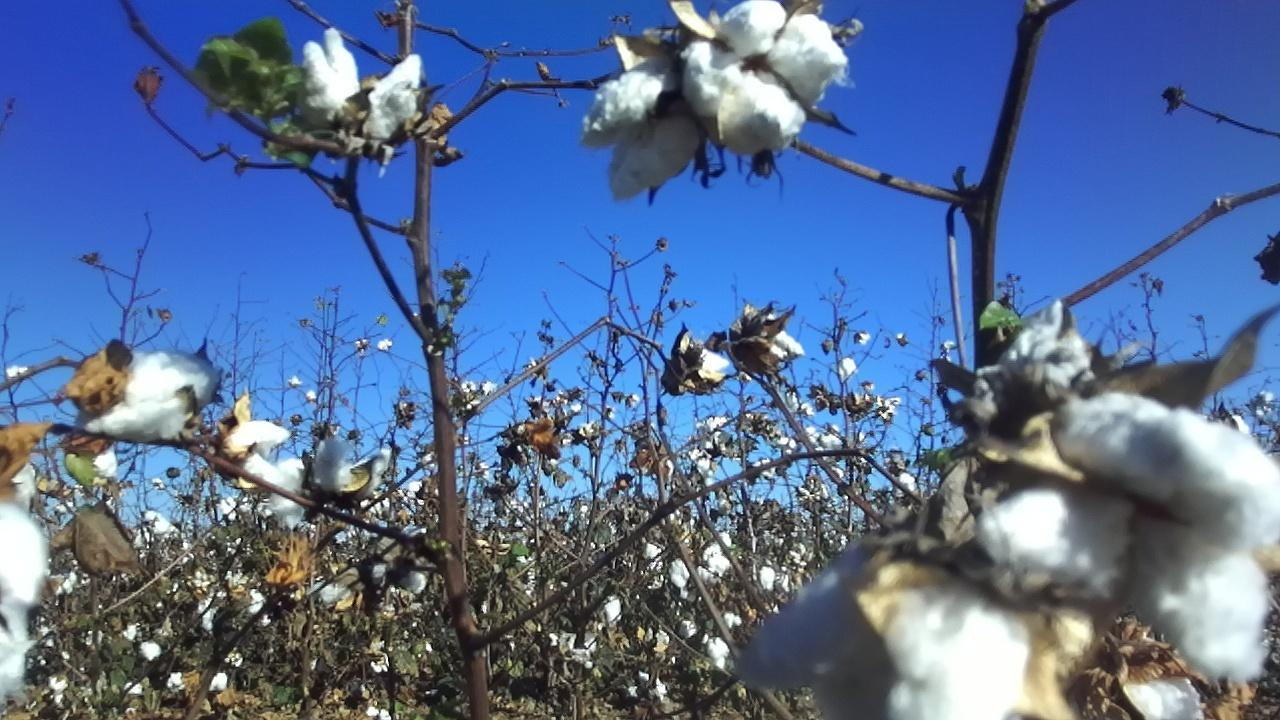cotton_ready: (984, 389, 1280, 684), (735, 539, 1033, 720), (682, 0, 849, 157), (579, 50, 702, 204), (301, 28, 424, 142), (75, 345, 224, 437), (0, 497, 49, 704), (999, 322, 1089, 391), (1105, 662, 1202, 720), (311, 435, 394, 498), (230, 417, 293, 494), (754, 310, 804, 366), (680, 339, 730, 382)
